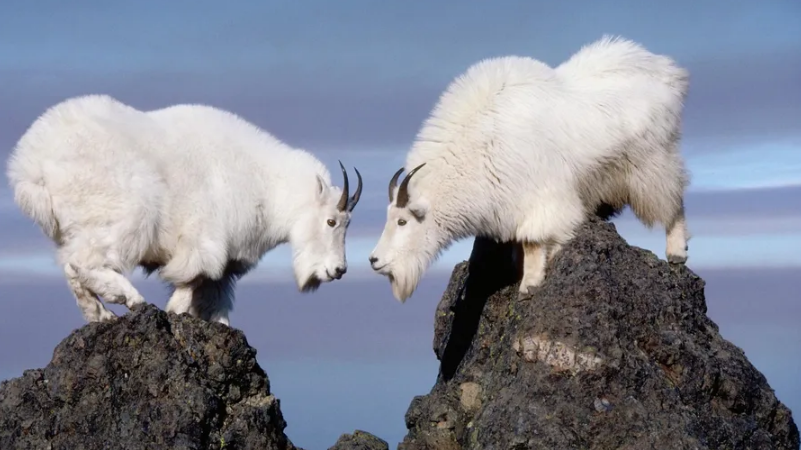goat: (3, 90, 365, 353), (370, 31, 718, 301)
